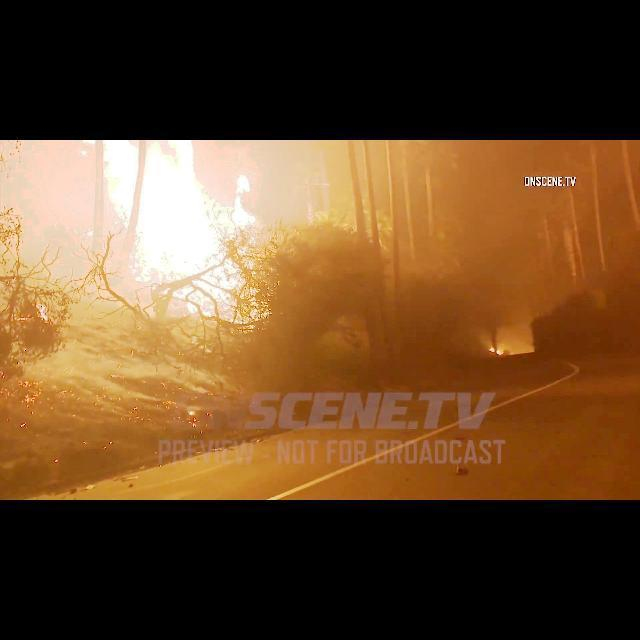Fire: (106, 140, 242, 290)
